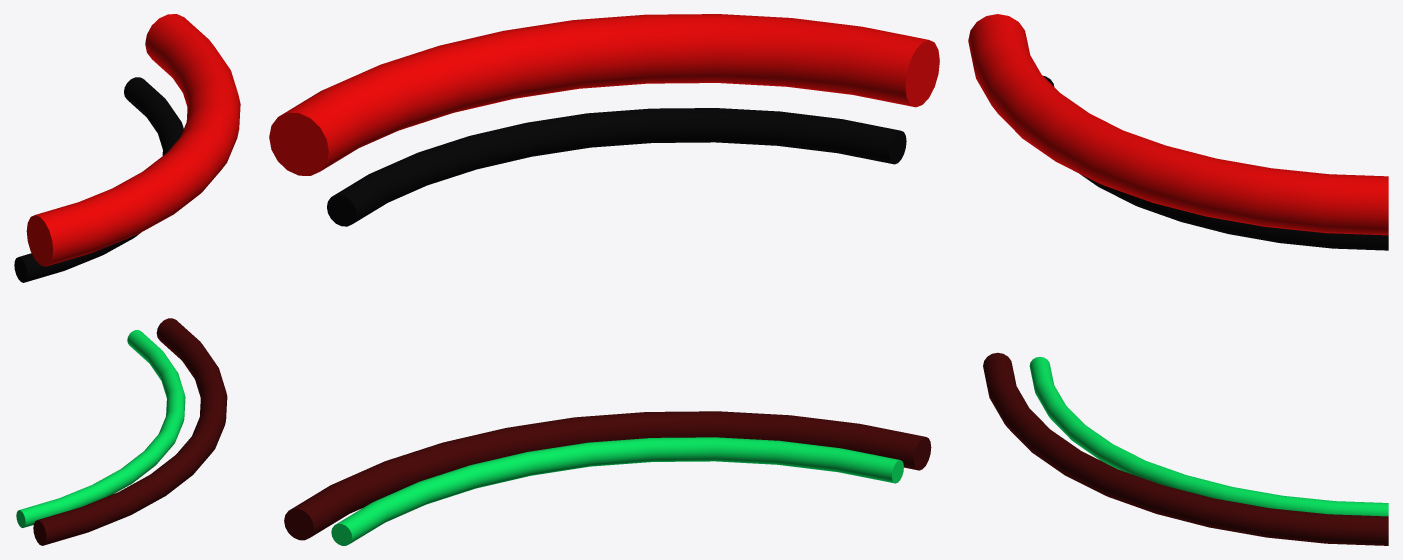
The model's file is Scifi2_WallA_Pipe_CornerIn.fbx.
3 views of the same model, side by side, from view 1: azimuth 30°, elevation 25°; view 2: azimuth 150°, elevation 25°; view 3: azimuth 270°, elevation 25° (orthographic). The views are drawn at different scales.
Visible parts, largest first — view 1: WallPipe_CornerIn; view 2: WallPipe_CornerIn; view 3: WallPipe_CornerIn.
Part boxes in pixels (x1=…): WallPipe_CornerIn: x1=14, y1=14, x2=240, y2=545; WallPipe_CornerIn: x1=269, y1=14, x2=939, y2=545; WallPipe_CornerIn: x1=968, y1=14, x2=1388, y2=545.
Bounding box in the file's own units: 398 × 382 × 398.
